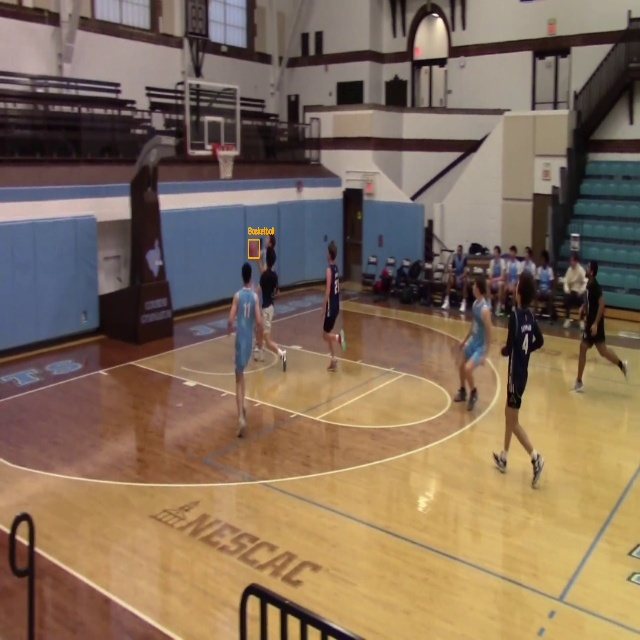Basketball: (248, 240, 259, 258)
